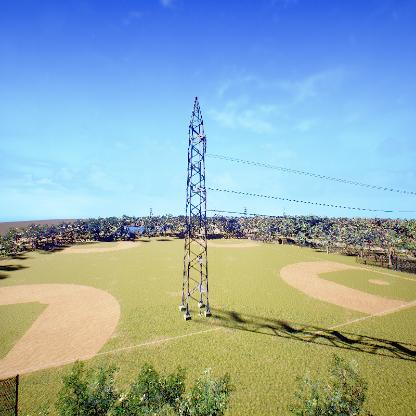tower: (179, 94, 212, 320)
